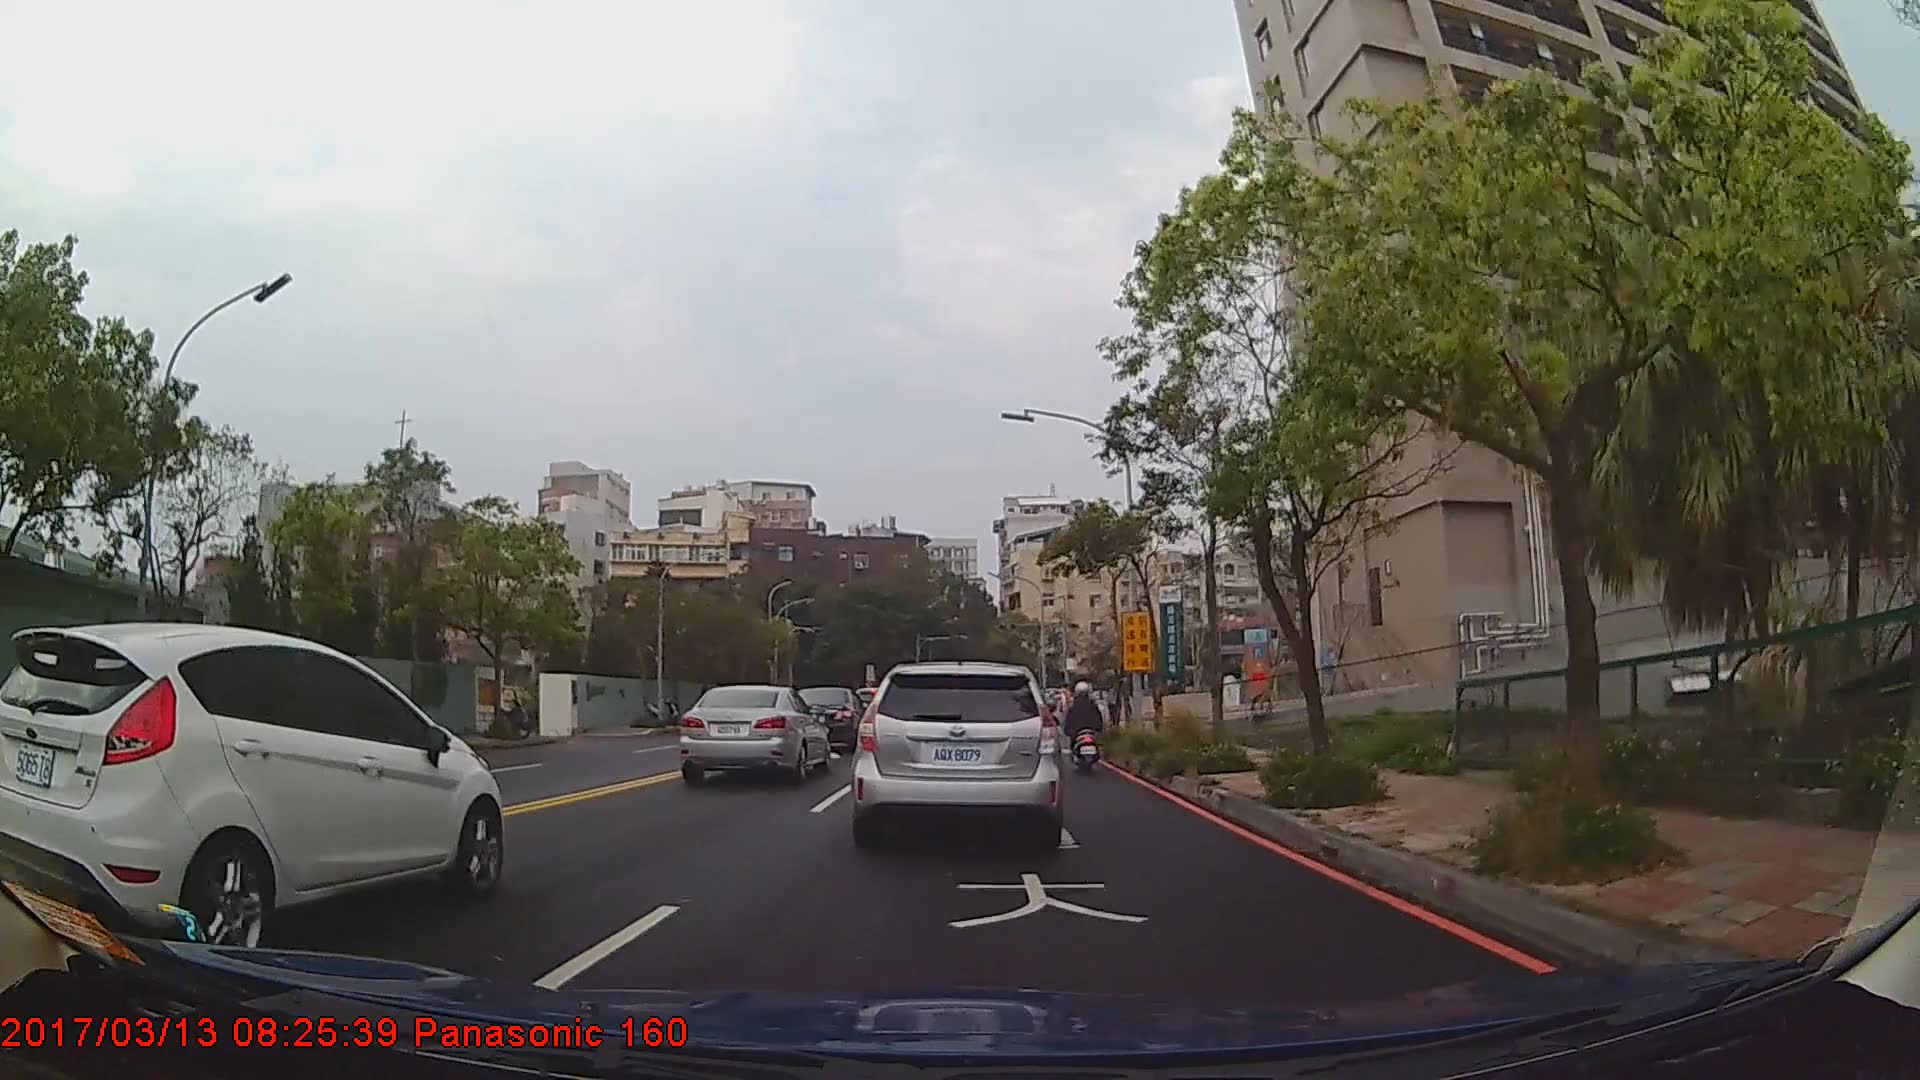rider: (1065, 682, 1106, 778)
vehicle: (0, 621, 502, 963), (851, 657, 1065, 844), (678, 683, 830, 784), (787, 685, 866, 750)
